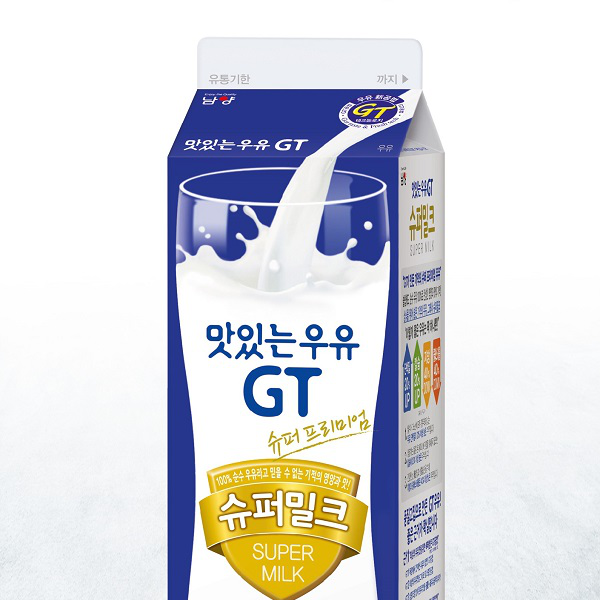milk: (168, 37, 445, 600)
